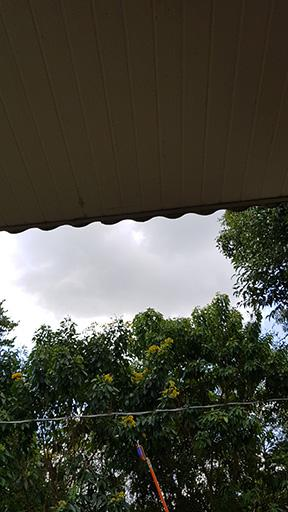Detector_Tensao_Contato: (134, 437, 149, 464)
